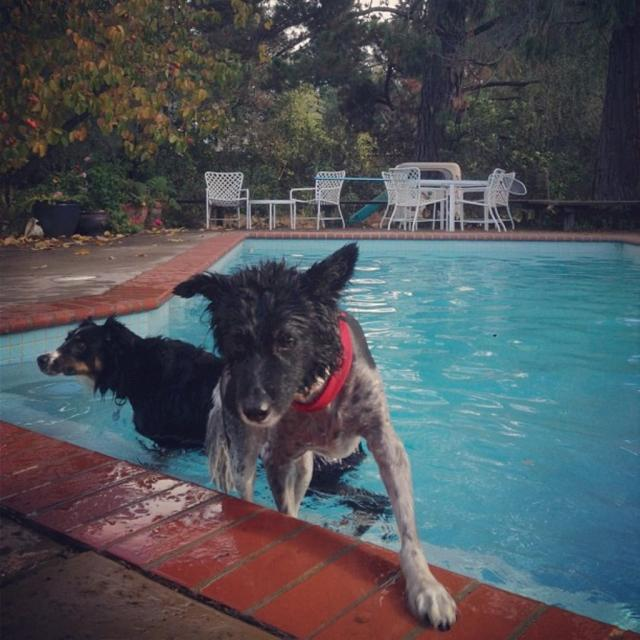Dog: (167, 239, 456, 638), (34, 311, 394, 539)
